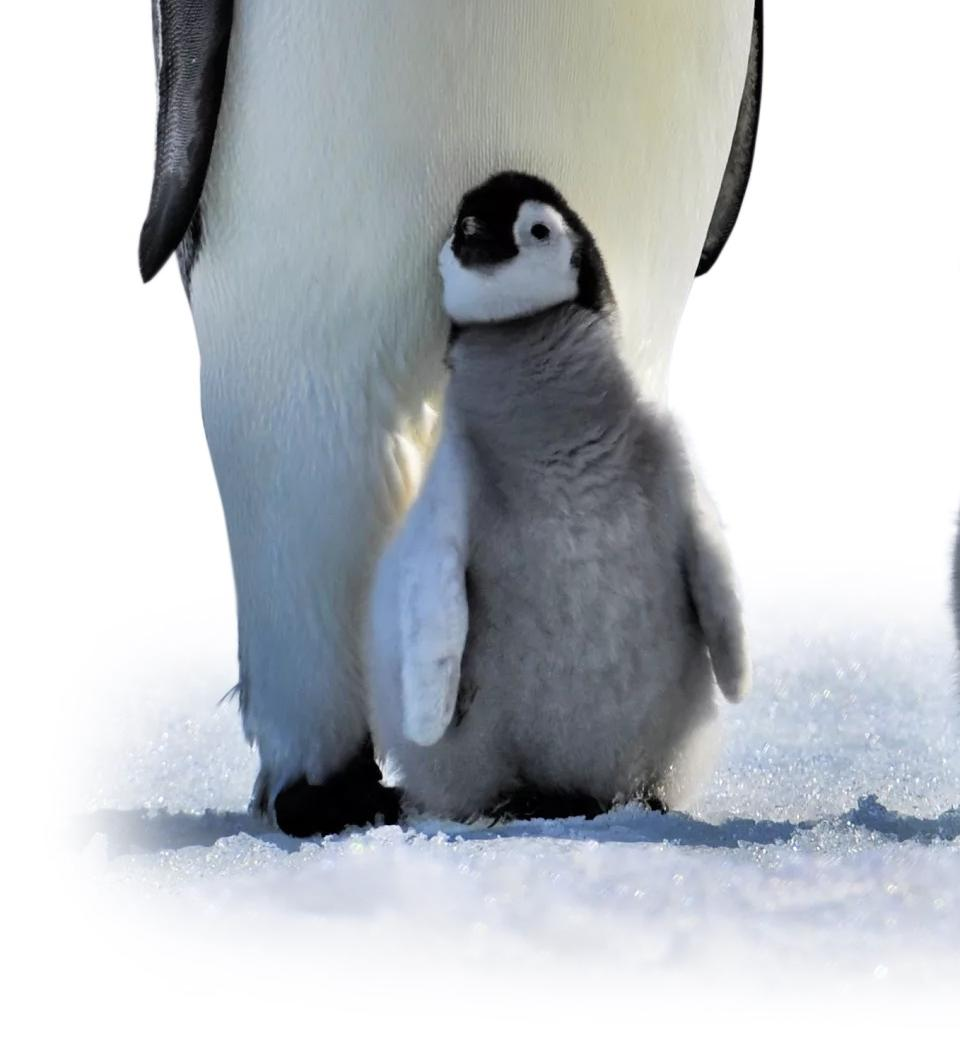Emperor Penguin: (126, 0, 886, 927), (858, 0, 960, 1063)
